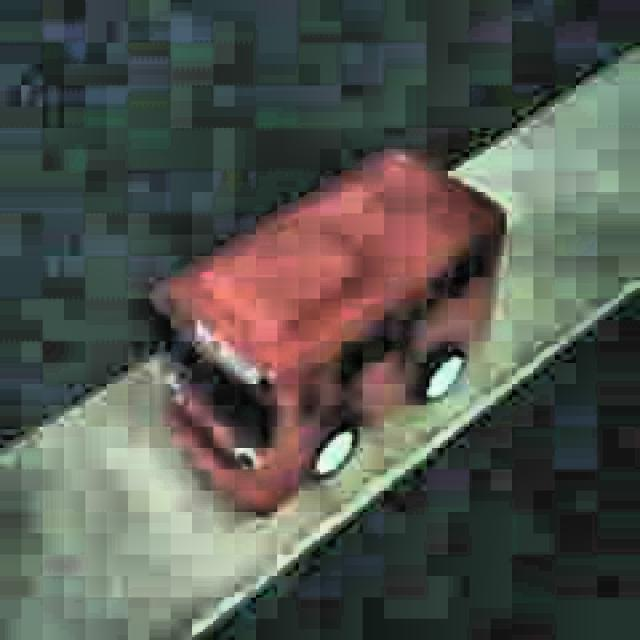bus: (155, 142, 509, 516)
